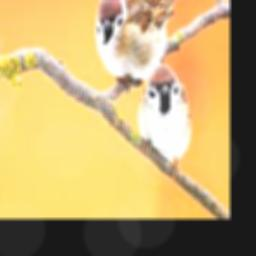Sparrow: (96, 0, 192, 94), (138, 63, 192, 182)
